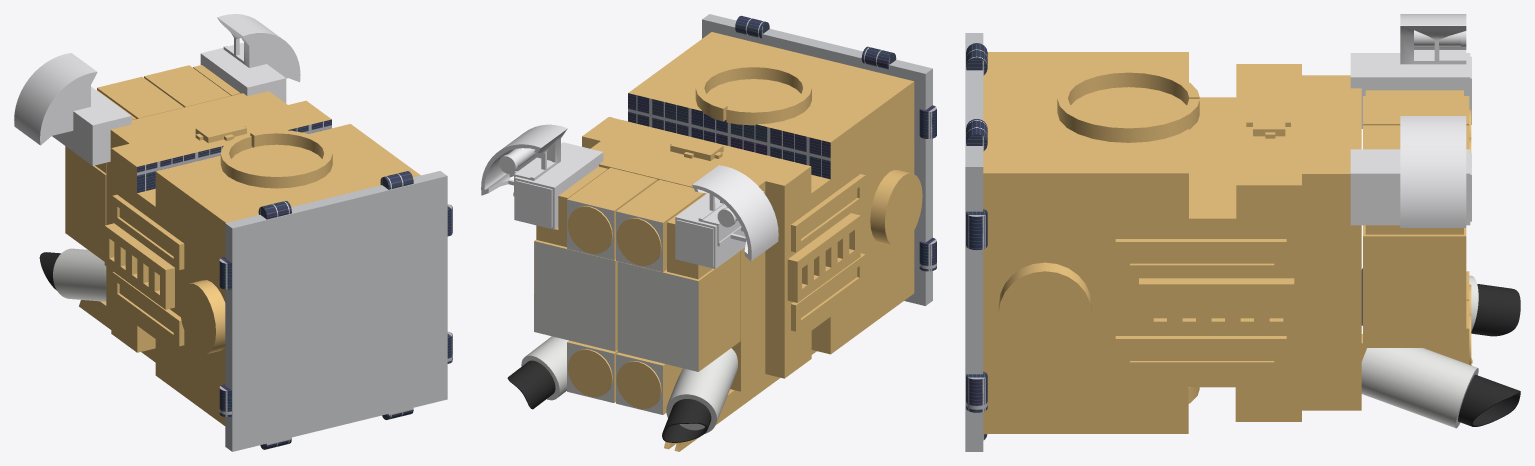
Rendered from hete.glb.
3 views of the same model, side by side, from view 1: azimuth 30°, elevation 25°; view 2: azimuth 150°, elevation 25°; view 3: azimuth 270°, elevation 25° (orthographic). The views are drawn at different scales.
Parts seen in each view (by area): view 1: <LWODefault>; view 2: <LWODefault>; view 3: <LWODefault>.
Part boxes in pixels (x1=…): <LWODefault>: x1=14, y1=14, x2=452, y2=451; <LWODefault>: x1=481, y1=14, x2=936, y2=451; <LWODefault>: x1=965, y1=14, x2=1520, y2=451.
Size of the model in its own units: 1.08 by 1.02 by 1.56.
6 materials, 1 textured.
